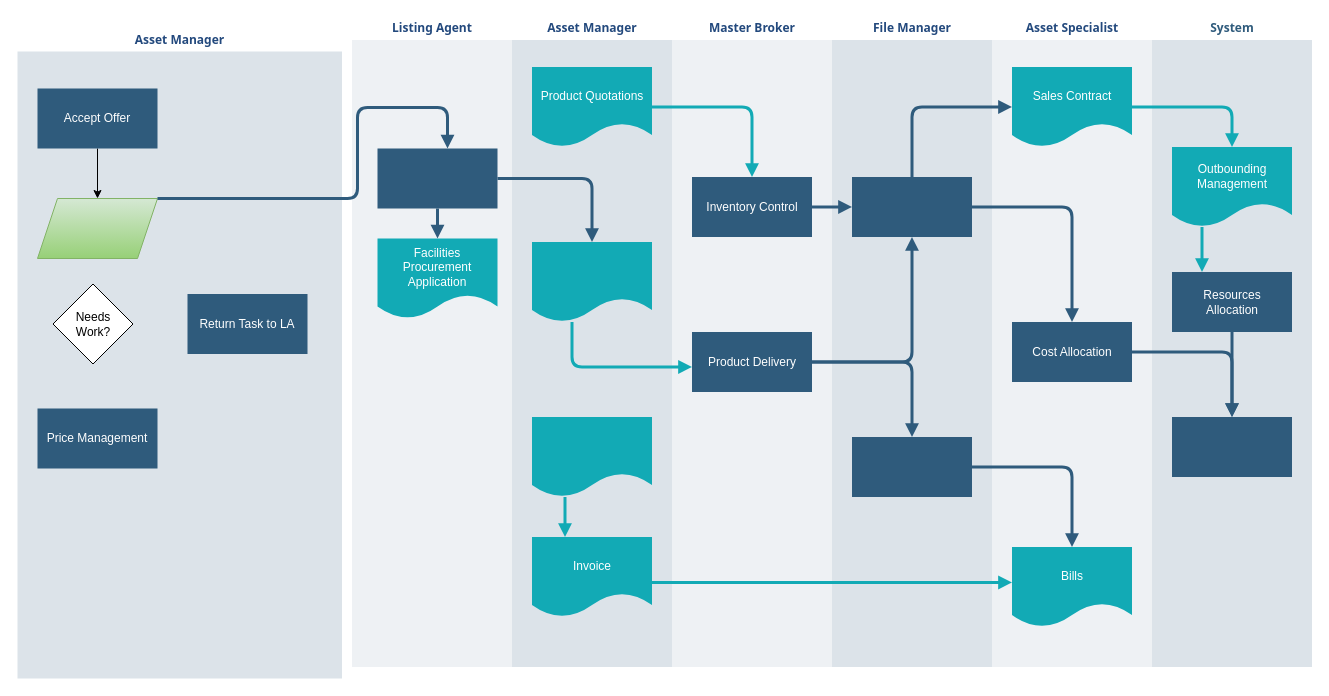
Some shapes in this 1329 by 696 pixel diagram are drawn without their labels. The box of each missing label's shape, as (x1, y1, x2, y2) in pixels:
Accept and Return w/ Buyer-signed Contract Contract Addendum A: (377, 148, 497, 208)
Account Processing: (852, 436, 972, 496)
Long Term Strategy: (1172, 416, 1292, 476)
Orders: (532, 242, 652, 322)
Outbound Accounting: (852, 176, 972, 236)
Product Delivery Notification: (532, 416, 652, 496)
SEND CONTRACT PACKAGE: (36, 198, 158, 258)
